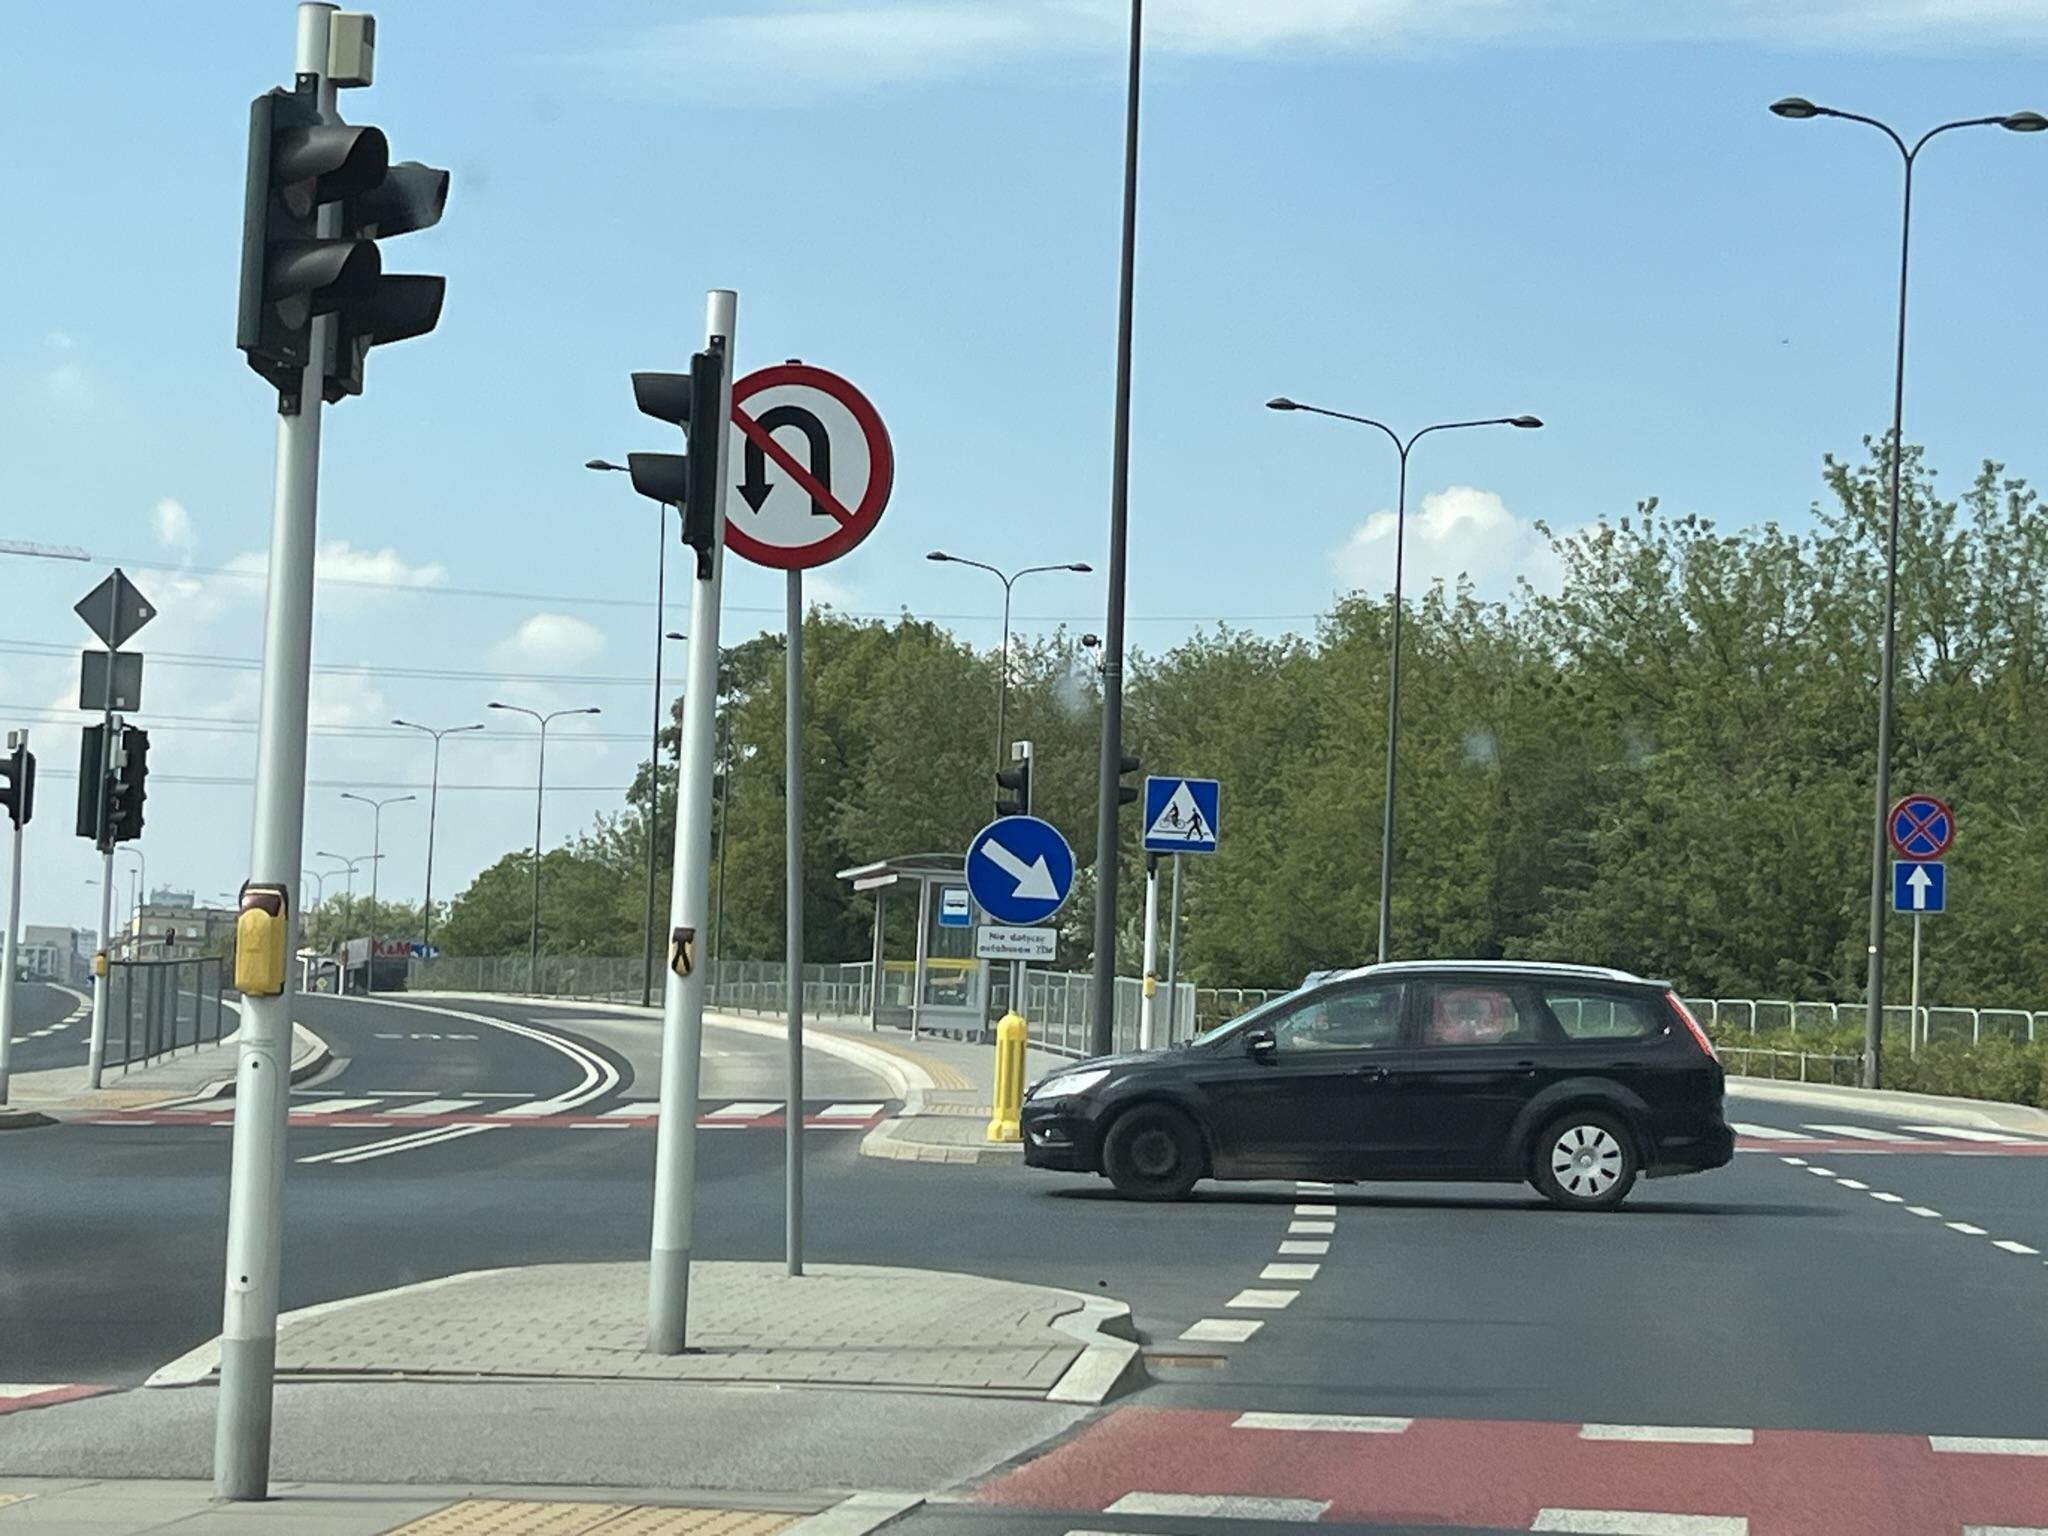information: (1147, 776, 1216, 852), (1895, 862, 1942, 912)
mandatory: (964, 815, 1076, 928)
prohibitory: (726, 360, 893, 573), (1887, 794, 1954, 862)
